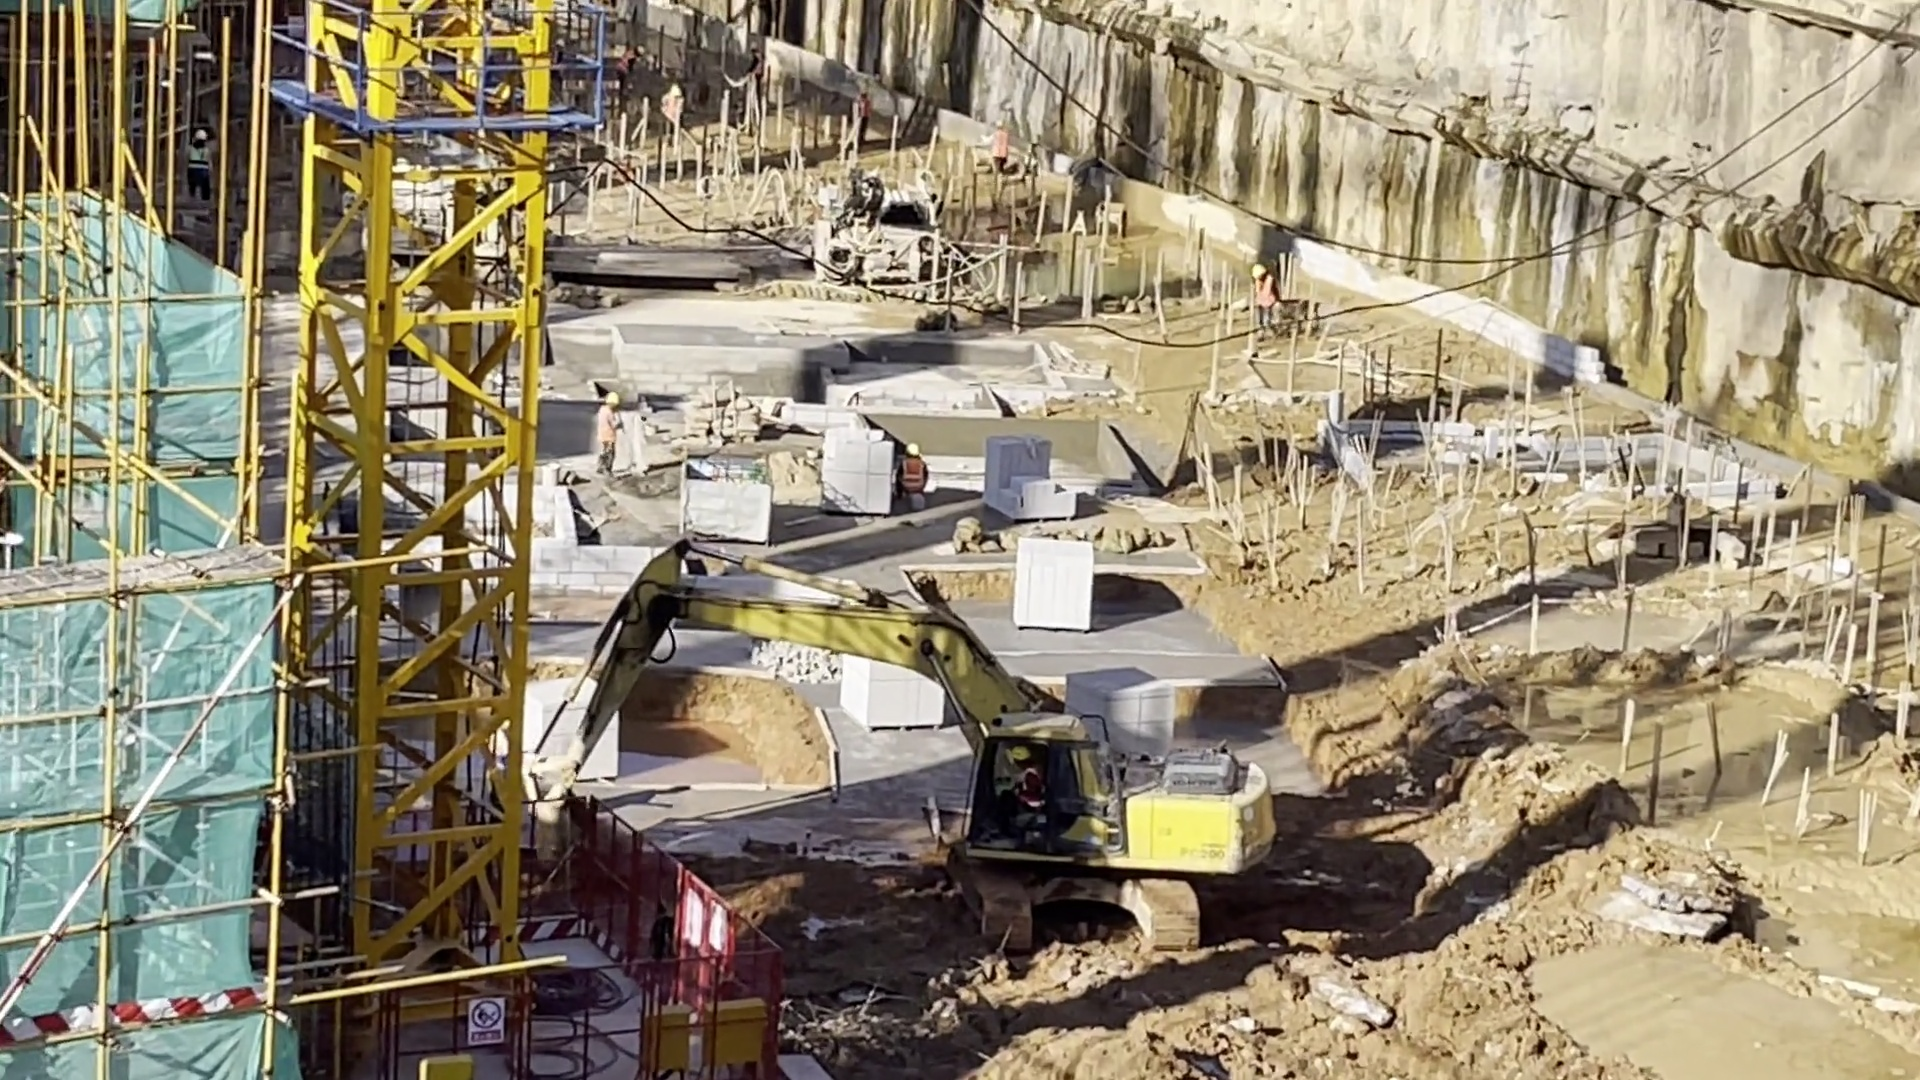helmet: (902, 444, 922, 456), (1012, 751, 1030, 764), (1250, 267, 1265, 281), (195, 130, 209, 147), (606, 392, 617, 407), (634, 44, 643, 54), (748, 43, 757, 51), (996, 120, 1003, 128)
person: (1003, 743, 1063, 844), (1240, 257, 1289, 345), (889, 441, 941, 517), (181, 128, 221, 201), (610, 43, 648, 113), (744, 42, 777, 113), (985, 115, 1013, 187), (598, 390, 616, 480), (850, 92, 878, 142)
vest: (1012, 777, 1046, 816), (595, 413, 618, 451), (901, 463, 928, 493), (991, 132, 1014, 169), (1257, 284, 1278, 316), (189, 147, 212, 176), (613, 54, 633, 76), (751, 56, 765, 81), (852, 100, 869, 119)
